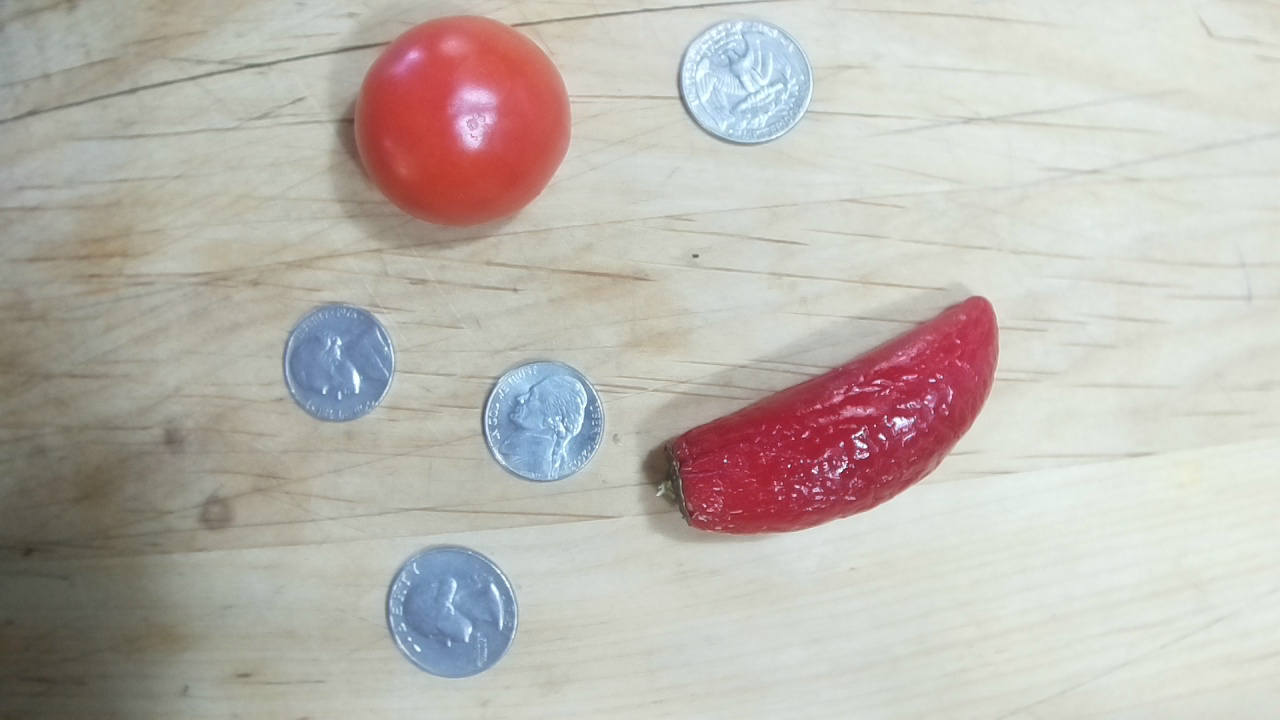nickel: (480, 357, 604, 482), (283, 302, 396, 425)
quarter: (382, 544, 519, 681), (674, 14, 814, 148)
